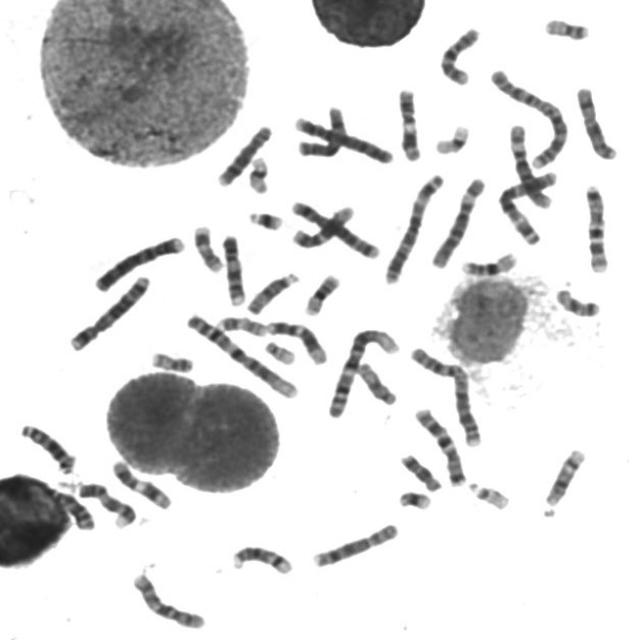A1: (181, 309, 300, 400), (323, 324, 402, 421)
A2: (484, 65, 570, 168), (406, 342, 484, 448)
A3: (379, 168, 447, 286), (494, 166, 560, 247)
B4: (89, 230, 187, 294), (290, 111, 396, 166)
B5: (64, 269, 152, 353), (286, 195, 382, 261)
C10: (126, 568, 208, 630), (434, 21, 482, 86)
C11: (106, 454, 175, 510), (393, 84, 424, 162)
C12: (287, 201, 356, 249), (262, 316, 329, 365)
C6: (427, 172, 488, 270), (504, 118, 554, 210)
C7: (409, 401, 469, 488), (580, 179, 611, 275)
C8: (308, 518, 400, 569), (212, 120, 275, 188)
C9: (73, 478, 137, 529), (218, 229, 248, 307)
D13: (15, 418, 78, 474), (43, 487, 95, 533)
D14: (540, 444, 588, 509), (226, 540, 294, 576)
D15: (242, 267, 301, 316), (352, 358, 400, 407)
E16: (300, 269, 342, 317), (457, 247, 520, 278)
E17: (188, 221, 225, 273), (212, 311, 268, 338)
E18: (396, 449, 444, 492), (551, 284, 603, 318)
F19: (431, 120, 472, 156), (243, 151, 272, 195)
F20: (540, 12, 592, 41), (146, 346, 195, 374)
G21: (243, 205, 286, 232), (394, 486, 434, 512)
G22: (463, 477, 512, 511), (260, 337, 298, 366)
X: (572, 82, 620, 162), (294, 101, 348, 159)
